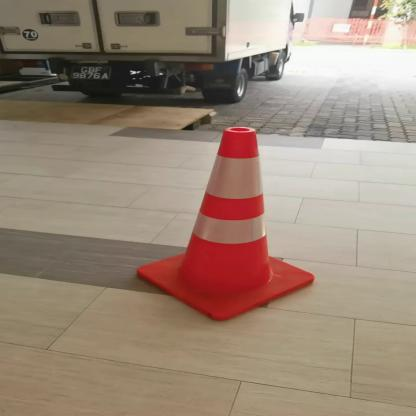cone: (130, 126, 318, 321)
